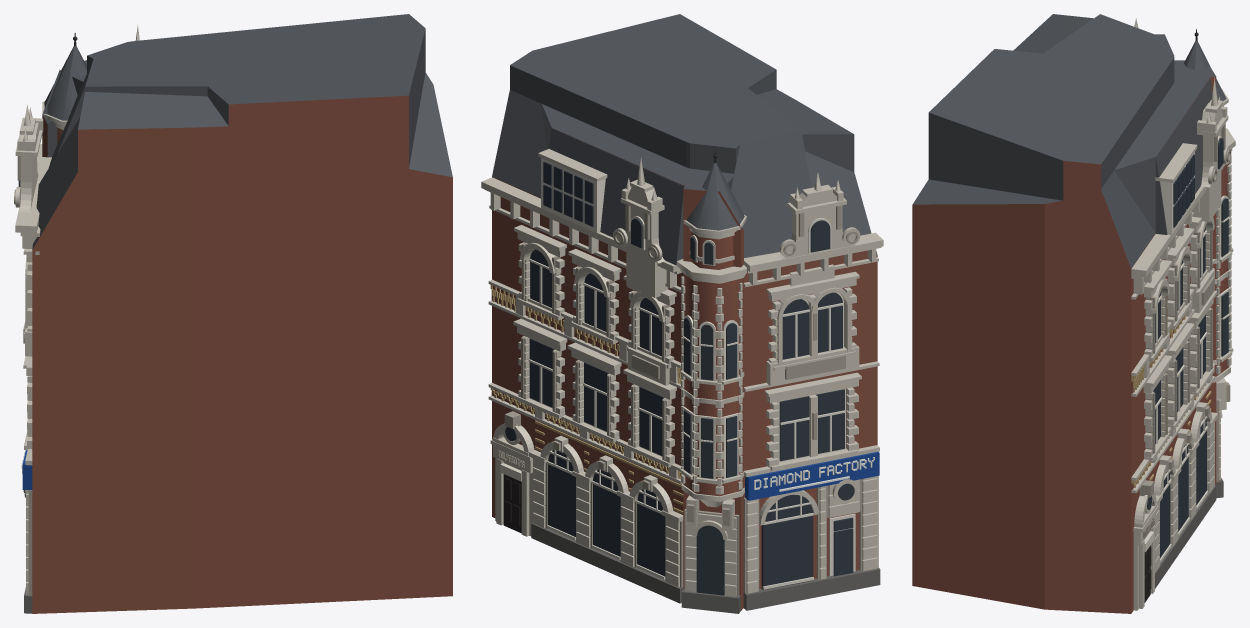
File: muntplein-1.glb
3 views of the same model, side by side, from view 1: azimuth 30°, elevation 25°; view 2: azimuth 150°, elevation 25°; view 3: azimuth 270°, elevation 25° (orthographic). The views are drawn at different scales.
Parts seen in each view (by area): view 1: muntplein-1; view 2: muntplein-1; view 3: muntplein-1.
Boxes of the visible parts, box(x1,y1,x2,y2) form: muntplein-1: box(14, 14, 452, 613); muntplein-1: box(481, 14, 883, 613); muntplein-1: box(912, 14, 1235, 613).
Size of the model in its own units: 14.36 by 16.75 by 10.7.
